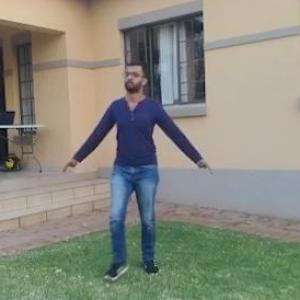land: (69, 67, 208, 270)
